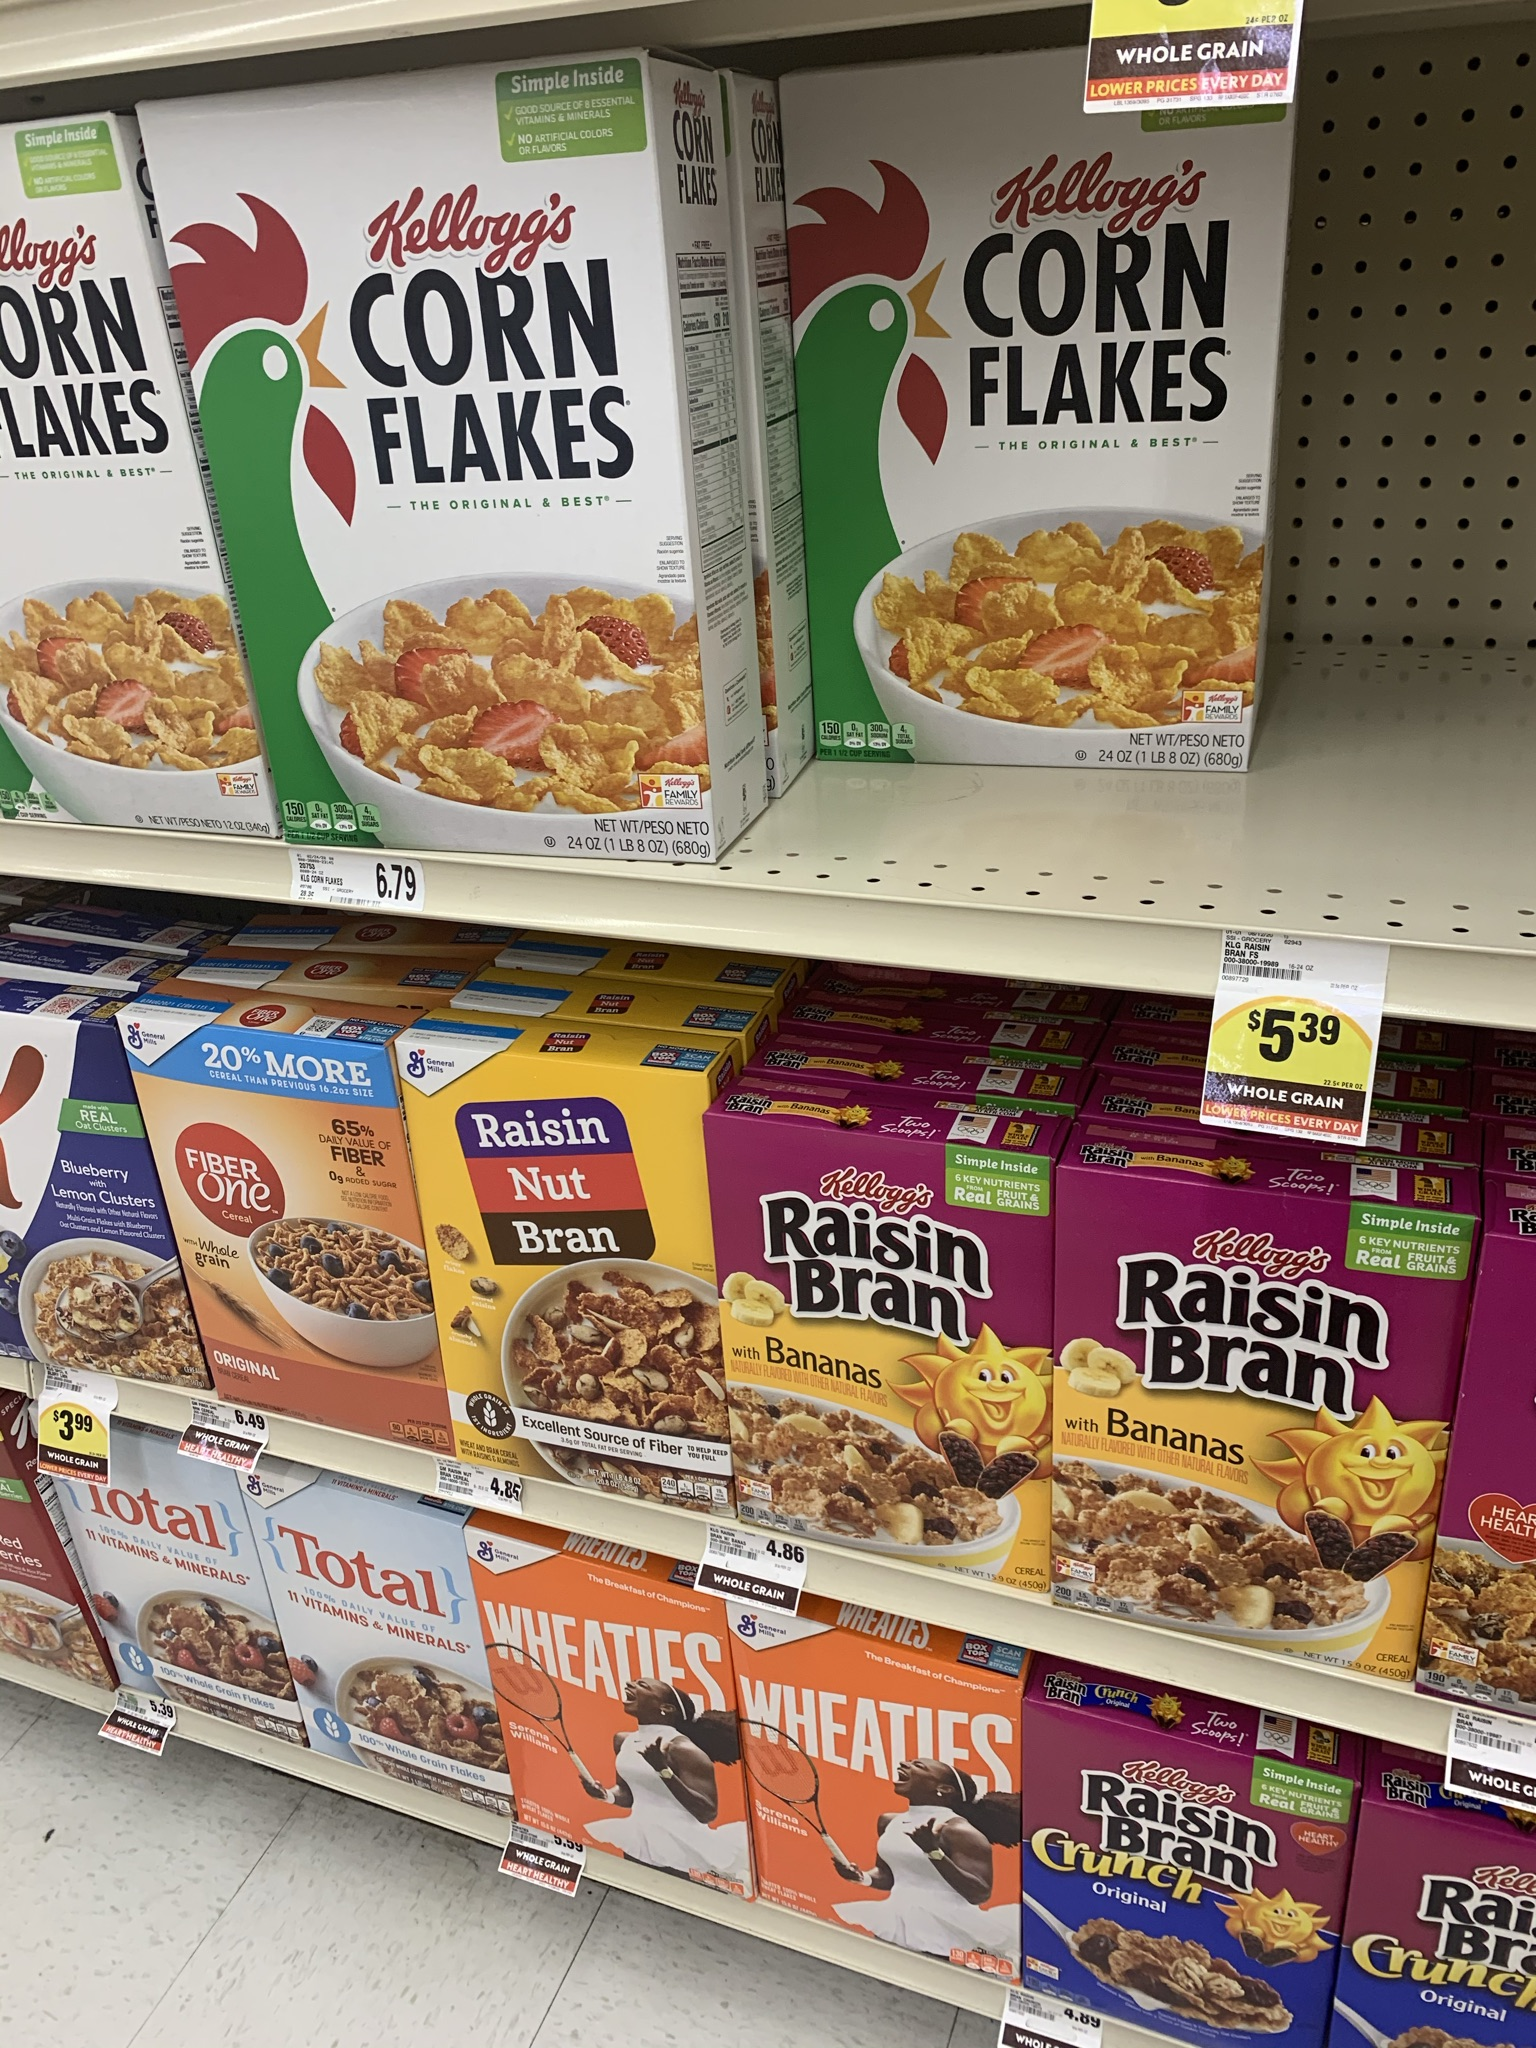box: (812, 173, 1242, 768), (257, 103, 653, 747), (1046, 1185, 1426, 1621), (712, 1135, 1042, 1530), (458, 1113, 707, 1479), (1037, 1740, 1336, 1998), (187, 1061, 431, 1364), (762, 1653, 1013, 1909), (495, 1593, 737, 1843), (295, 1526, 489, 1764)
